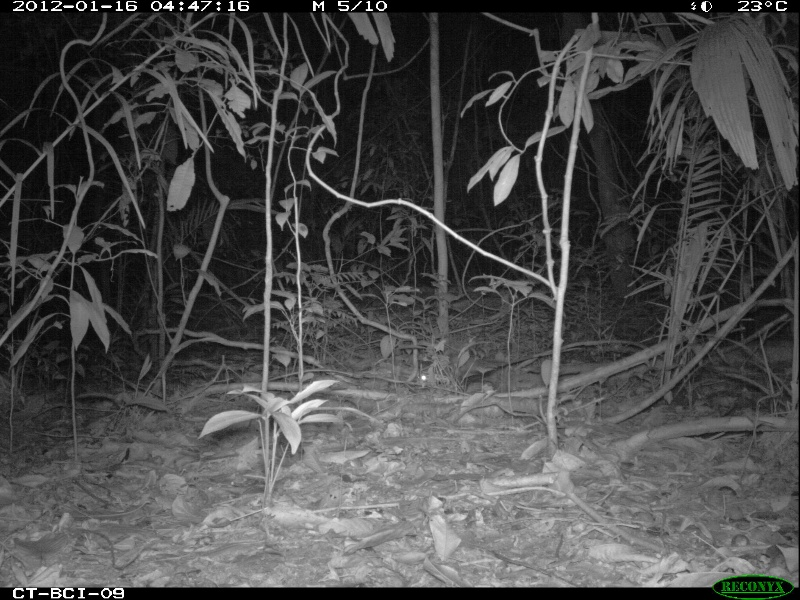opossum: (416, 352, 544, 391)
